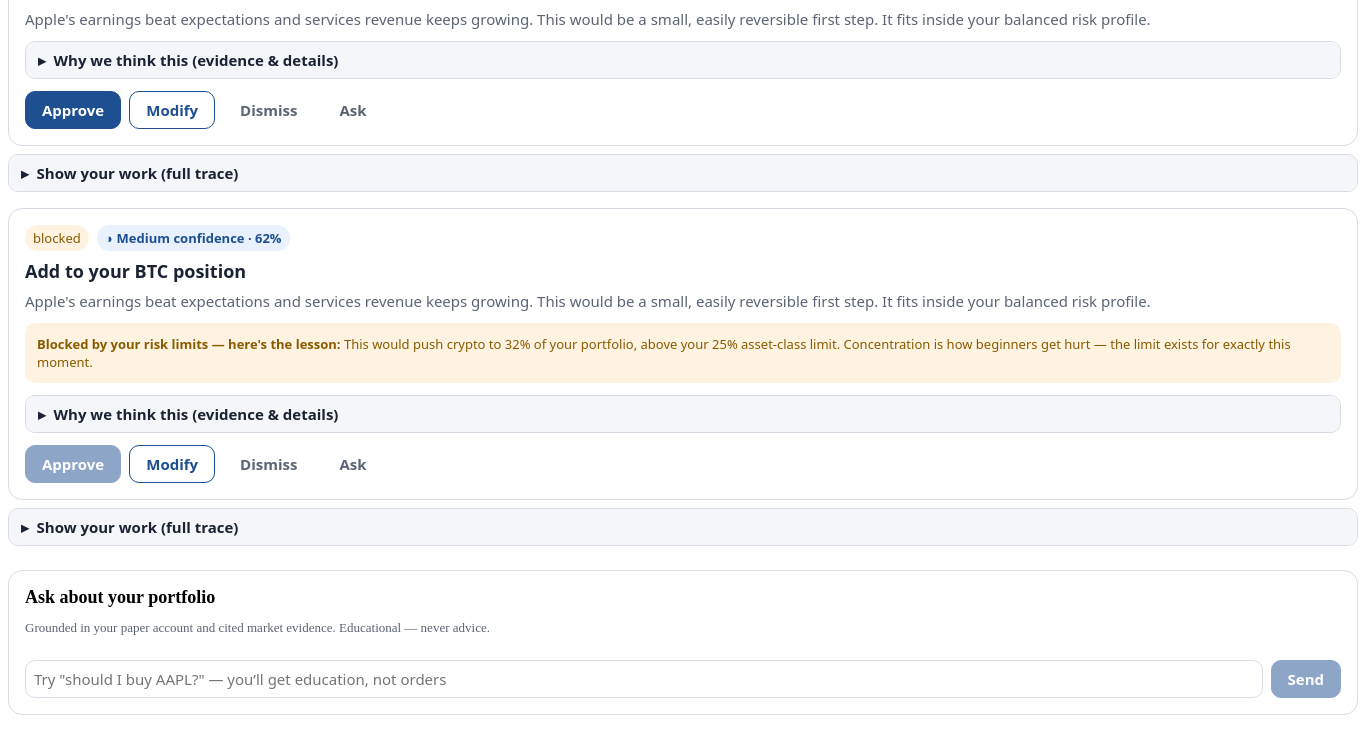
it: chat surfaces stream errors inline
The image size is (1366, 735).
(page scrolled)
Type "hello" into the field named "Chat message" at (644, 679), box [25,660,1262,698]
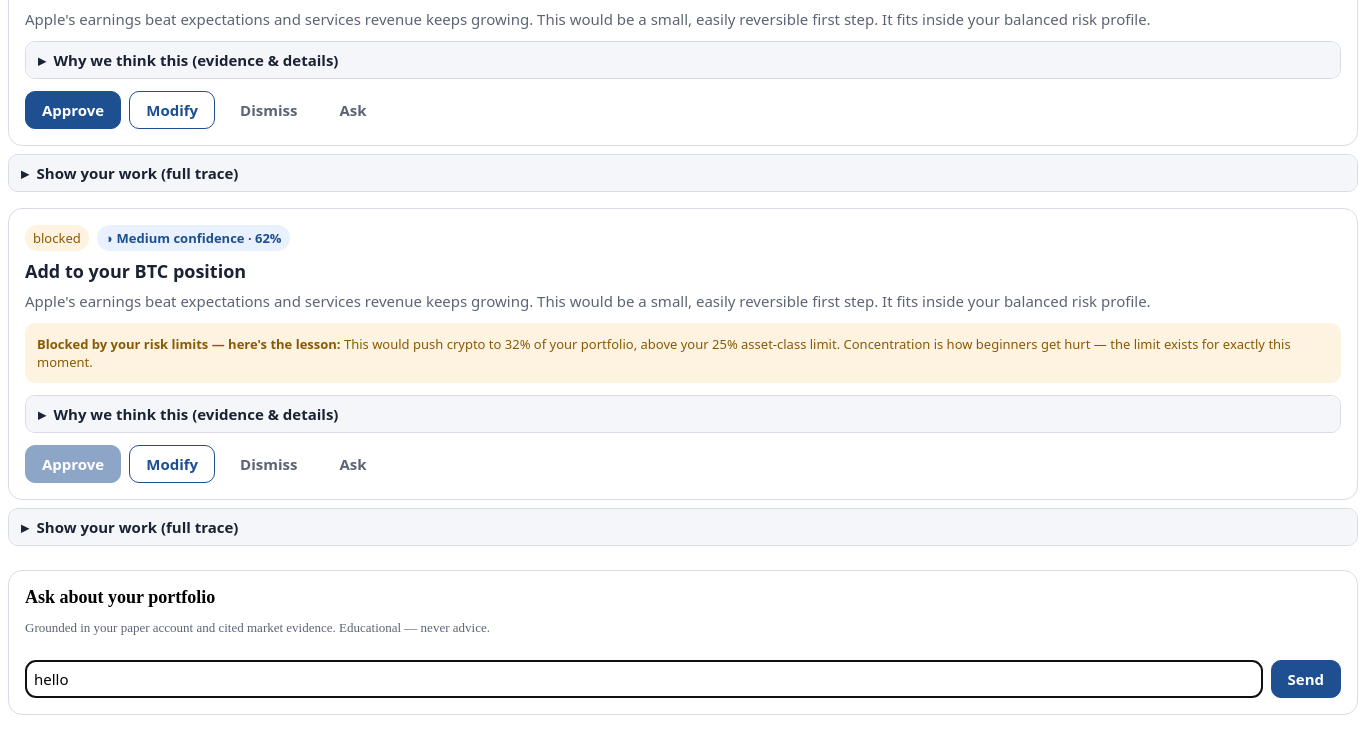
Click the button "Send" at (1306, 679), box [1270,660,1341,698]
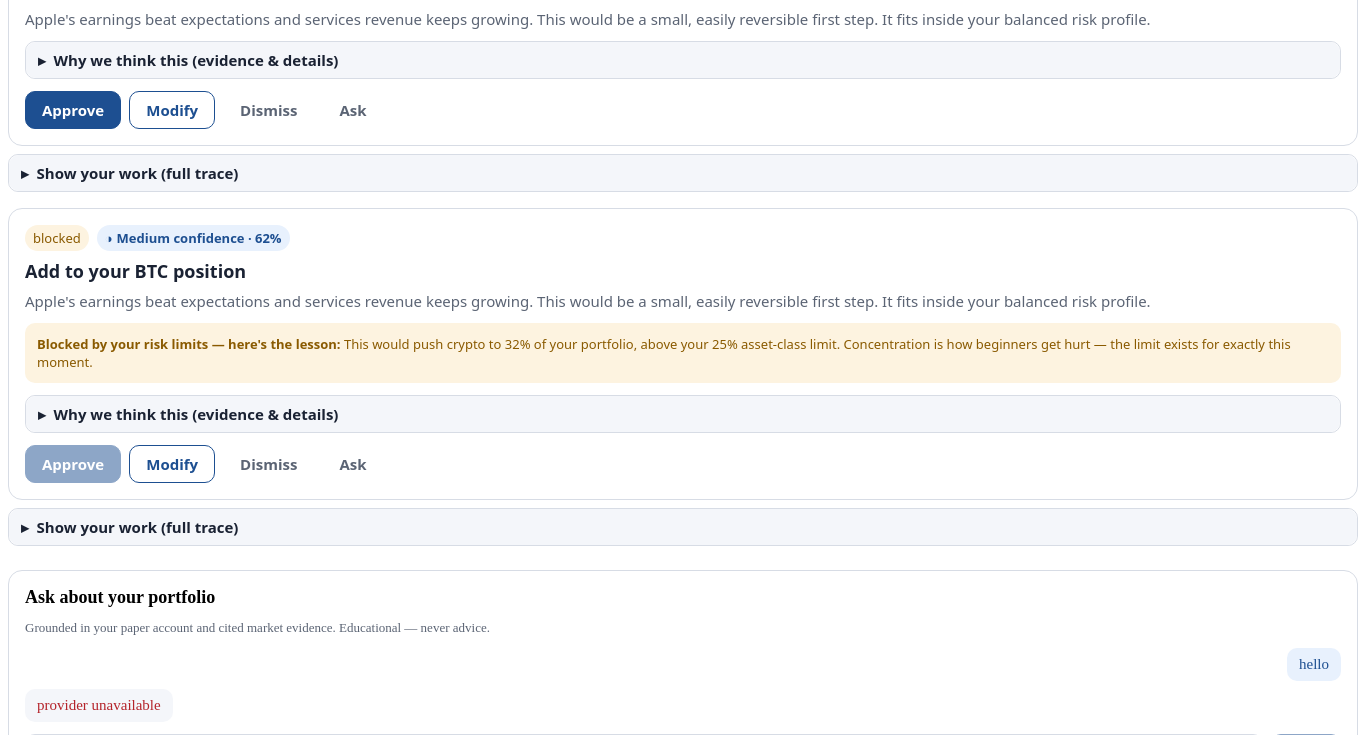
Expected: the message "provider unavailable" is shown, [37,697,161,714]
